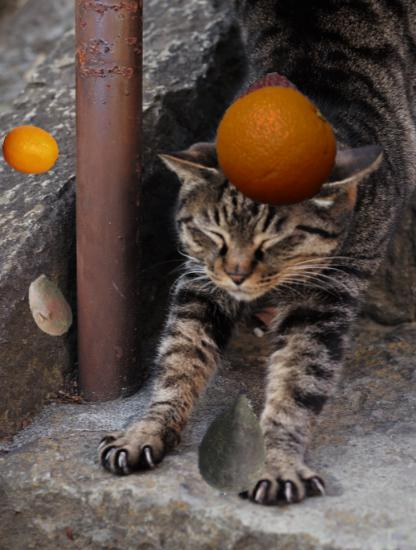Beetroot: (178, 388, 289, 499)
Lemon: (2, 121, 62, 181)
Orange: (215, 86, 338, 209)
Potato: (16, 274, 81, 339)
Strawberry: (211, 73, 340, 202)
